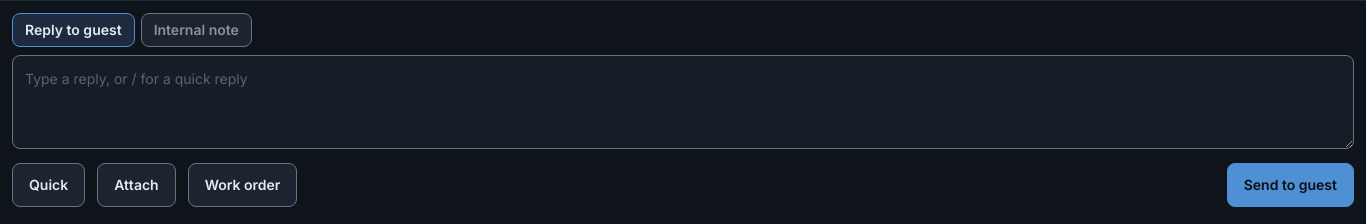
Test: Composer › pluralises segments and warns at two
Click the text box at coordinates (683, 102), box top-left (12, 55), bottom-right (1354, 149)
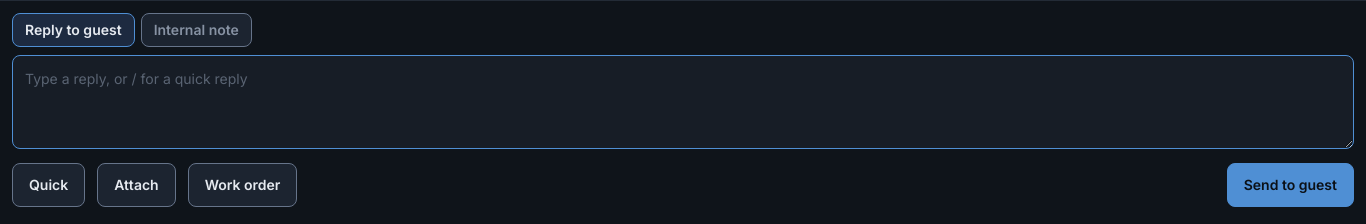
Type keys "aaaaaaaaaaaaaaaaaaaaaaaaaaaaaaaaaaaaaaaaaaaaaaaaaaaaaaaaaaaaaaaaaaaaaaaaaaaaaaaaaaaaaaaaaaaaaaaaaaaaaaaaaaaaaaaaaaaaaaaaaaaaaaaaaaaaaaaaaaaaaaaaaaaaaaaaaaaaaaaaa"
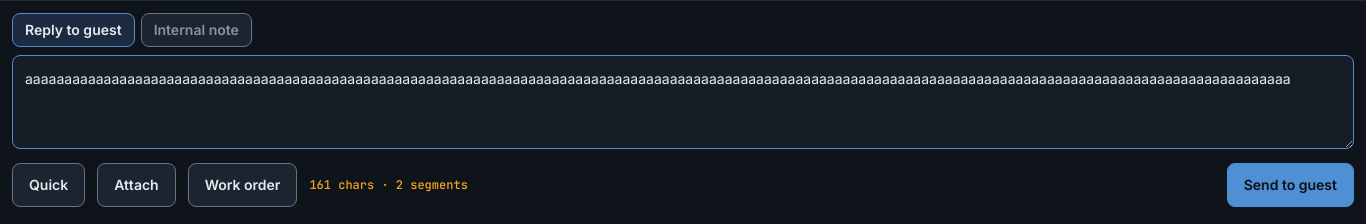
Expected: the text with test id "segment-counter" reads "161 chars · 2 segments", top-left (309, 177), bottom-right (468, 193)
